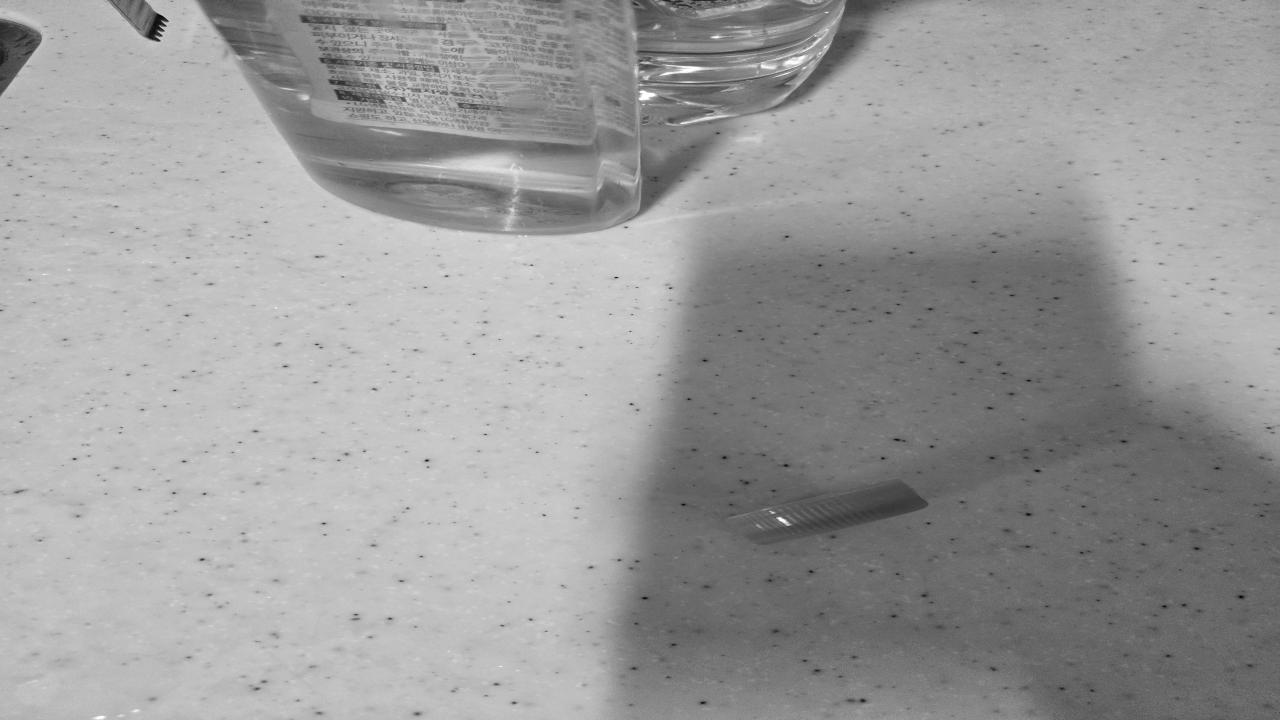bottle_cap: (726, 479, 933, 544)
